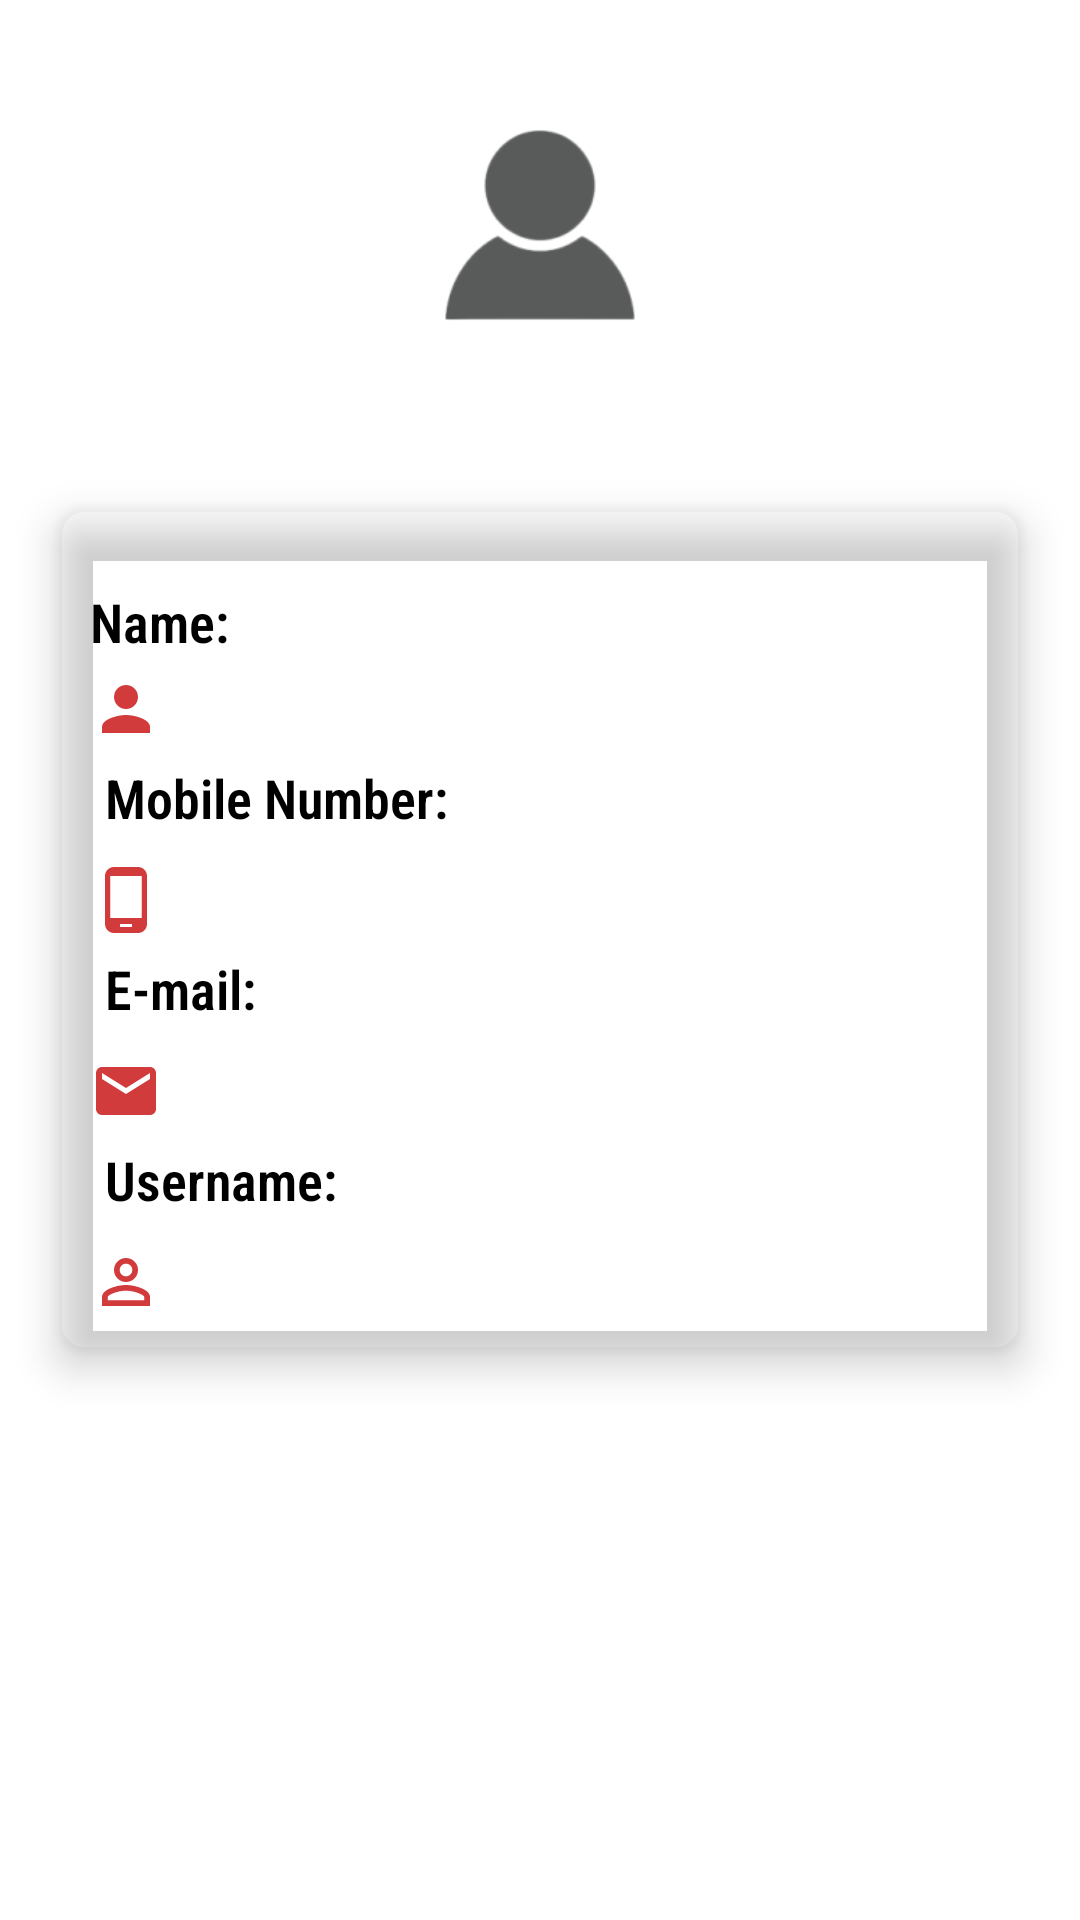

Screen size 1080px×1920px. Icon name, then its center in pixels as [x,y]:
profile: [540,225]
